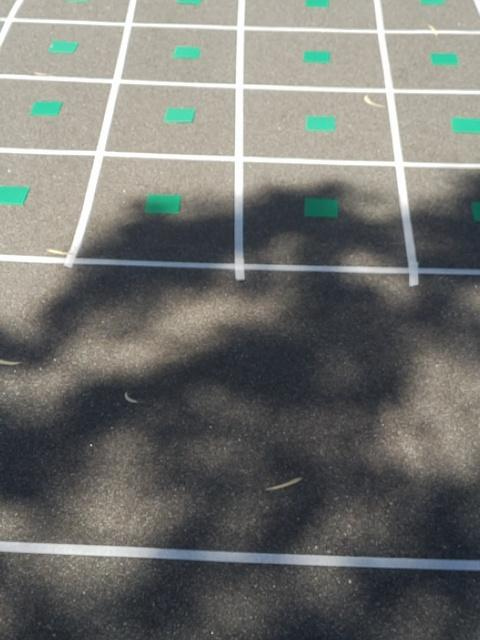weed: (0, 183, 32, 209), (145, 193, 181, 215), (302, 197, 338, 219), (31, 99, 66, 117), (449, 115, 480, 135), (162, 107, 194, 124), (304, 115, 336, 132), (429, 51, 460, 66), (172, 45, 201, 60), (303, 49, 330, 64), (52, 40, 78, 53), (305, 0, 330, 8), (471, 201, 480, 221), (418, 0, 444, 6), (175, 0, 203, 4)
